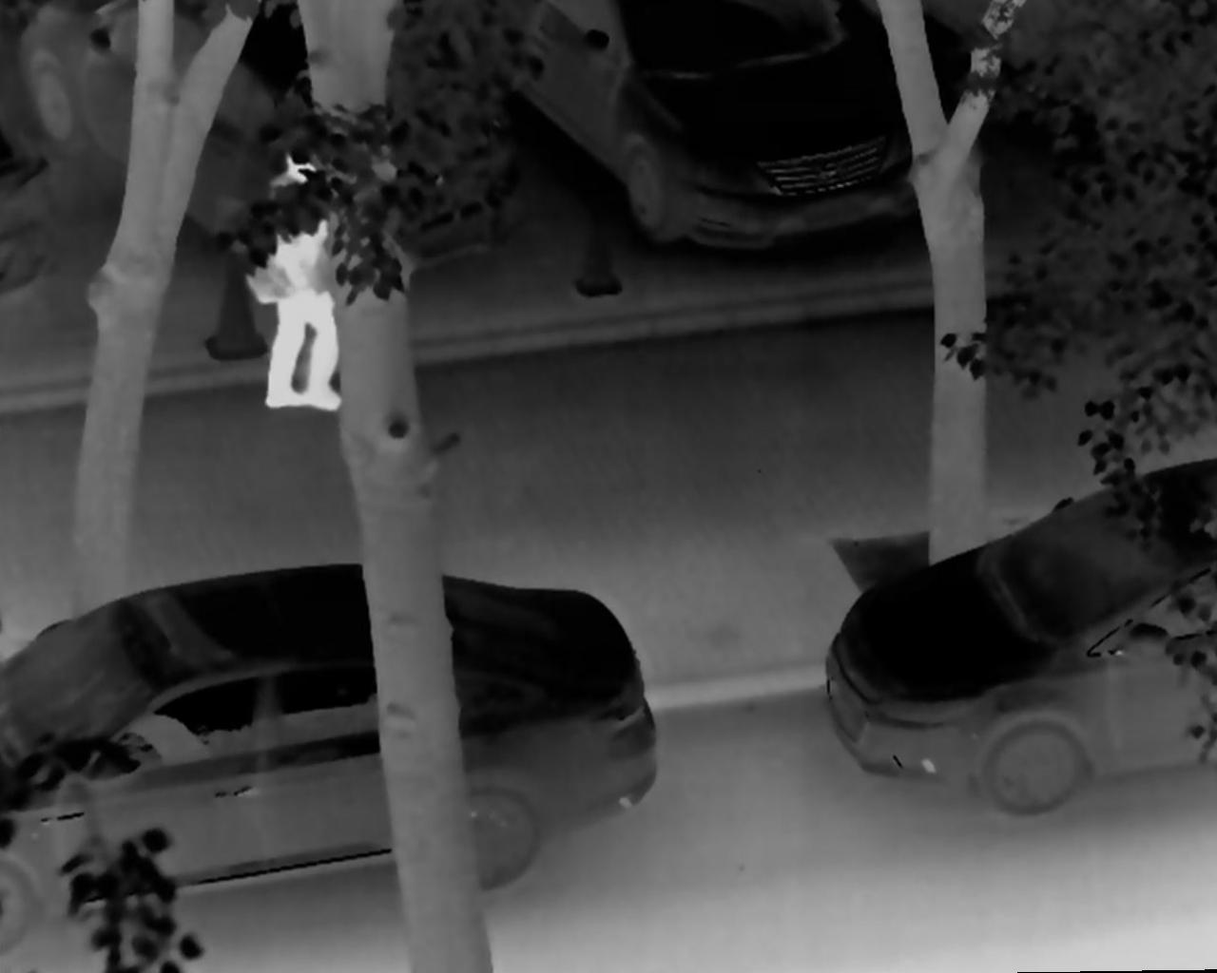person: (245, 119, 356, 412)
